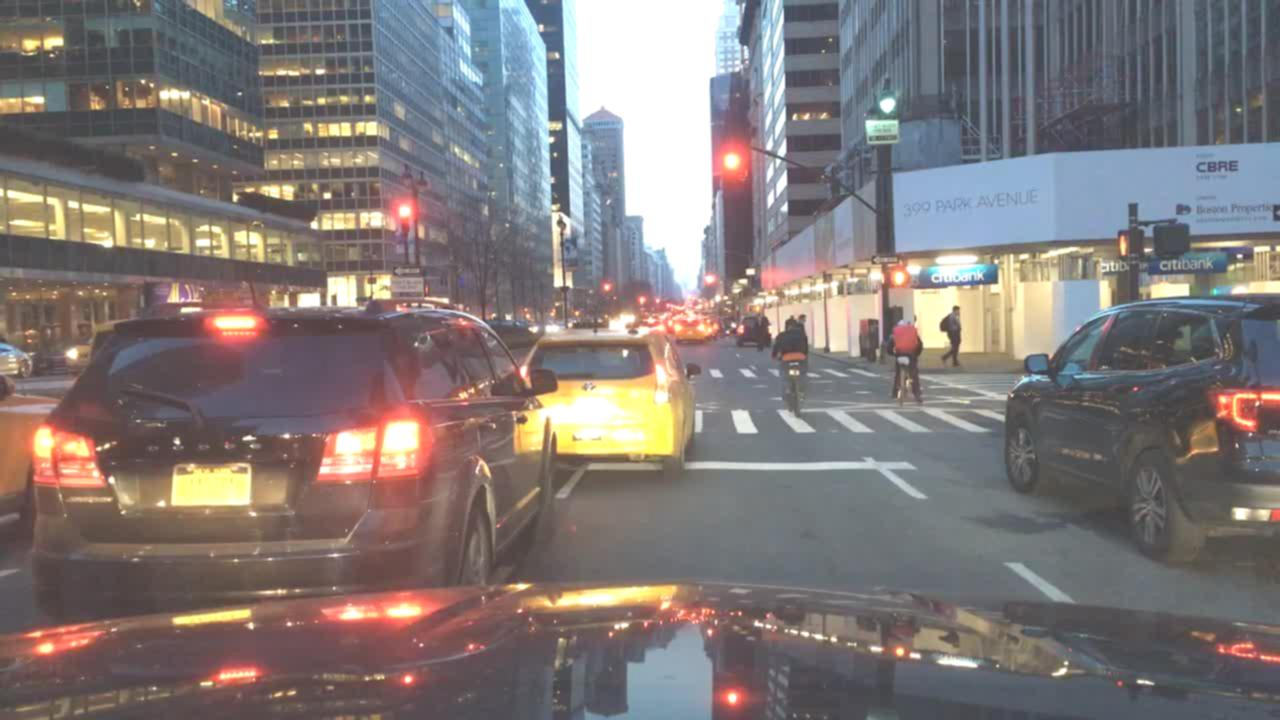Toyota: (579, 380, 598, 396)
dodge: (137, 435, 268, 460)
